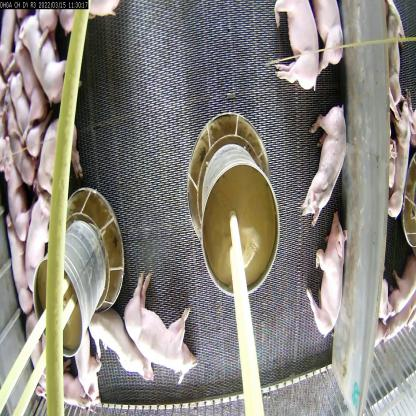Pig: (116, 264, 202, 387), (19, 4, 80, 99), (303, 215, 346, 343), (272, 0, 325, 103), (92, 297, 153, 386), (34, 121, 86, 221), (300, 101, 344, 218), (0, 133, 34, 234), (306, 5, 355, 67), (5, 96, 38, 188), (20, 201, 52, 295), (74, 314, 108, 400), (10, 38, 41, 129), (5, 70, 41, 148), (5, 220, 34, 310), (24, 313, 51, 386), (57, 365, 92, 415)
